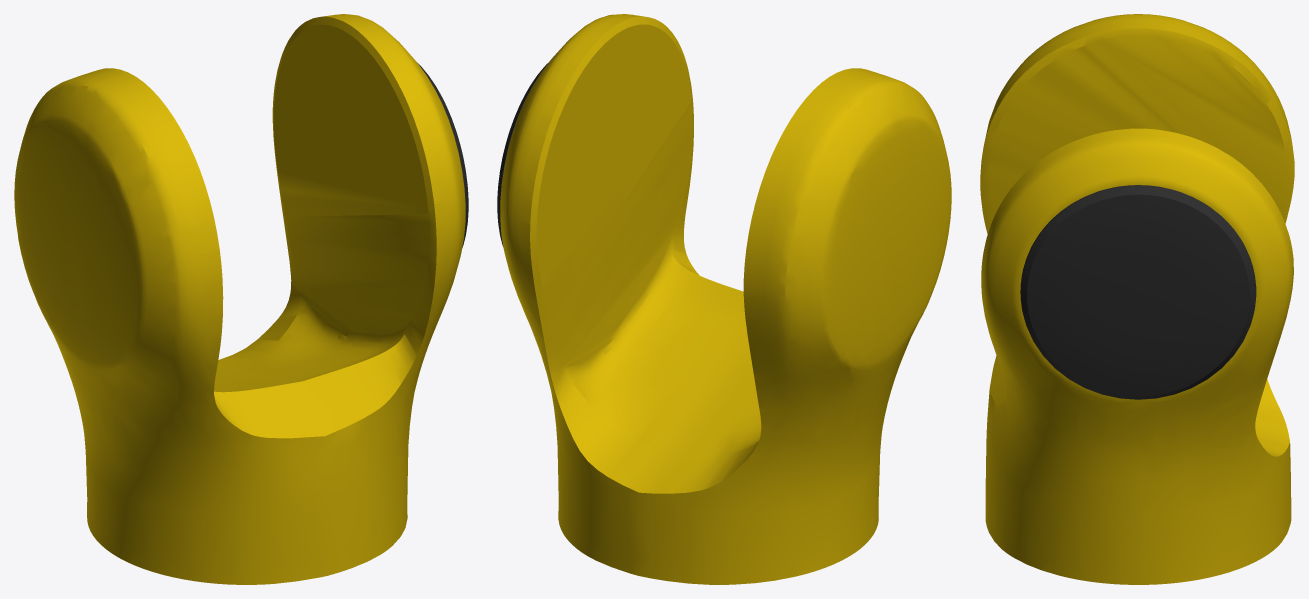
Rendered from shoulder_roll_r_j2_link.glb.
3 renders of one model, left to right at view 1: azimuth 30°, elevation 25°; view 2: azimuth 150°, elevation 25°; view 3: azimuth 270°, elevation 25°, orthographic. The views are drawn at different scales.
Bounding box in the file's own units: 0.1184 × 0.1532 × 0.0987.
